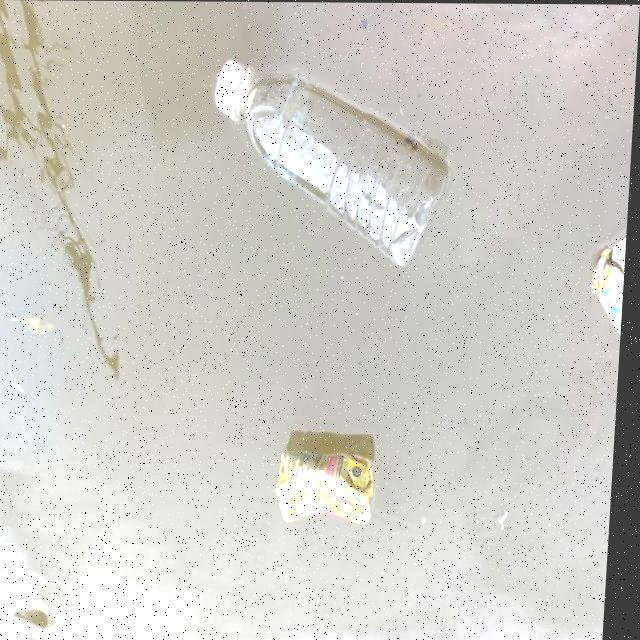paper: (282, 439, 390, 527), (577, 201, 631, 373)
waterbottle: (202, 54, 458, 271)
